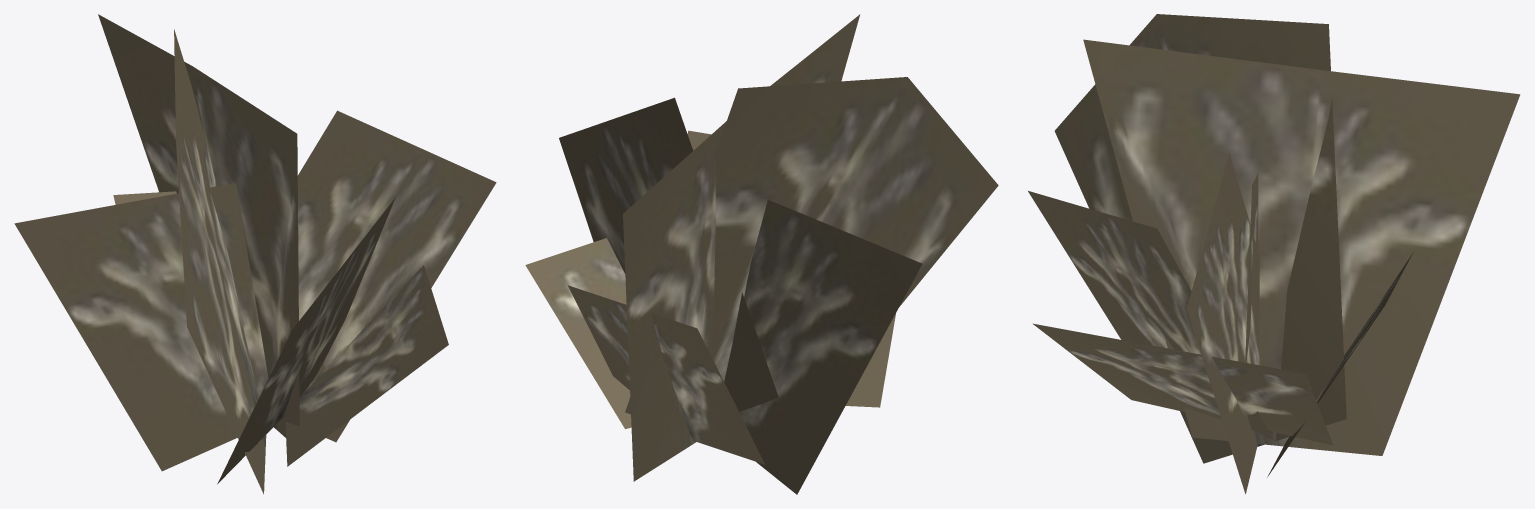
Rendered from pir_m_prp_cav_mushroom_5.fbx.
3 views of the same model, side by side, from view 1: azimuth 30°, elevation 25°; view 2: azimuth 150°, elevation 25°; view 3: azimuth 270°, elevation 25° (orthographic).
Parts seen in each view (by area): view 1: pPlane1.001, pPlane3.001, pPlane2.001, pPlane8.001, pPlane7.001, pPlane6.001, pPlane7, pPlane1, pPlane3, pPlane8, pPlane6, pPlane2; view 2: pPlane8.001, pPlane1.001, pPlane2.001, pPlane3.001, pPlane5.001, pPlane7.001, pPlane8, pPlane2, pPlane6.001, pPlane5, pPlane3, pPlane1 (+1 smaller); view 3: pPlane2.001, pPlane8.001, pPlane6.001, pPlane7.001, pPlane3.001, pPlane2, pPlane3, pPlane7, pPlane6, pPlane5.001, pPlane1.001, pPlane8.
Boxes of the visible parts, x1,y1,x2,y2 form: pPlane1.001: (14,183,324,471); pPlane3.001: (297,110,496,442); pPlane2.001: (98,14,299,437); pPlane8.001: (174,29,266,494); pPlane7.001: (285,265,448,466); pPlane6.001: (217,197,395,484); pPlane7: (286,345,447,458); pPlane1: (164,240,268,469); pPlane3: (299,186,492,422); pPlane8: (178,148,265,490); pPlane6: (223,330,317,478); pPlane2: (193,72,299,436); pPlane8.001: (625,77,998,414); pPlane1.001: (739,199,922,494); pPlane2.001: (623,14,860,481); pPlane3.001: (559,97,778,411); pPlane5.001: (568,285,764,464); pPlane7.001: (525,238,631,429); pPlane8: (709,81,993,379); pPlane2: (637,25,856,477); pPlane6.001: (687,130,895,407); pPlane5: (569,288,762,463); pPlane3: (560,142,776,409); pPlane1: (740,287,795,492); pPlane2.001: (1083,39,1520,455); pPlane8.001: (1054,14,1346,463); pPlane6.001: (1028,191,1273,440); pPlane7.001: (1033,323,1333,445); pPlane3.001: (1186,153,1260,494); pPlane2: (1085,48,1378,454); pPlane3: (1188,311,1259,493); pPlane7: (1033,324,1327,443); pPlane6: (1032,196,1271,438); pPlane5.001: (1267,252,1413,476); pPlane1.001: (1245,173,1258,362); pPlane8: (1056,19,1342,456).
Bounding box in the file's own units: 642 × 618 × 647.
1 material, 1 textured.
